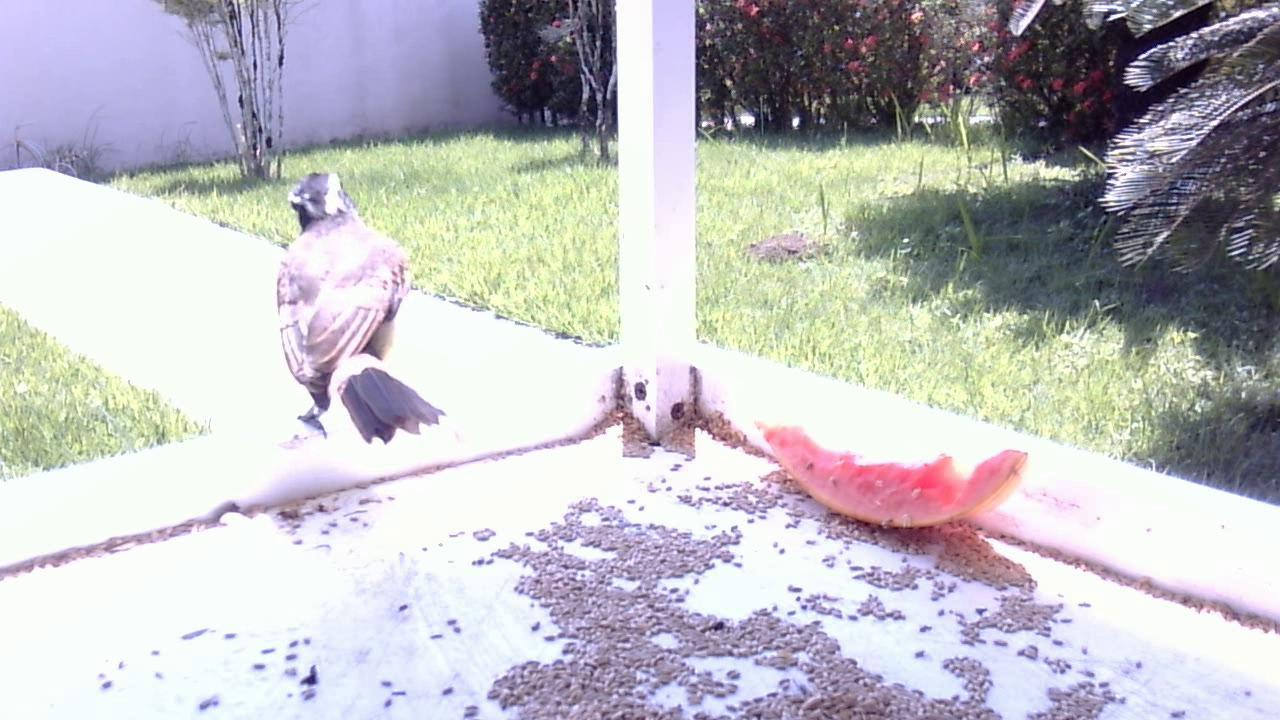bem_te_vi: (260, 160, 455, 457)
